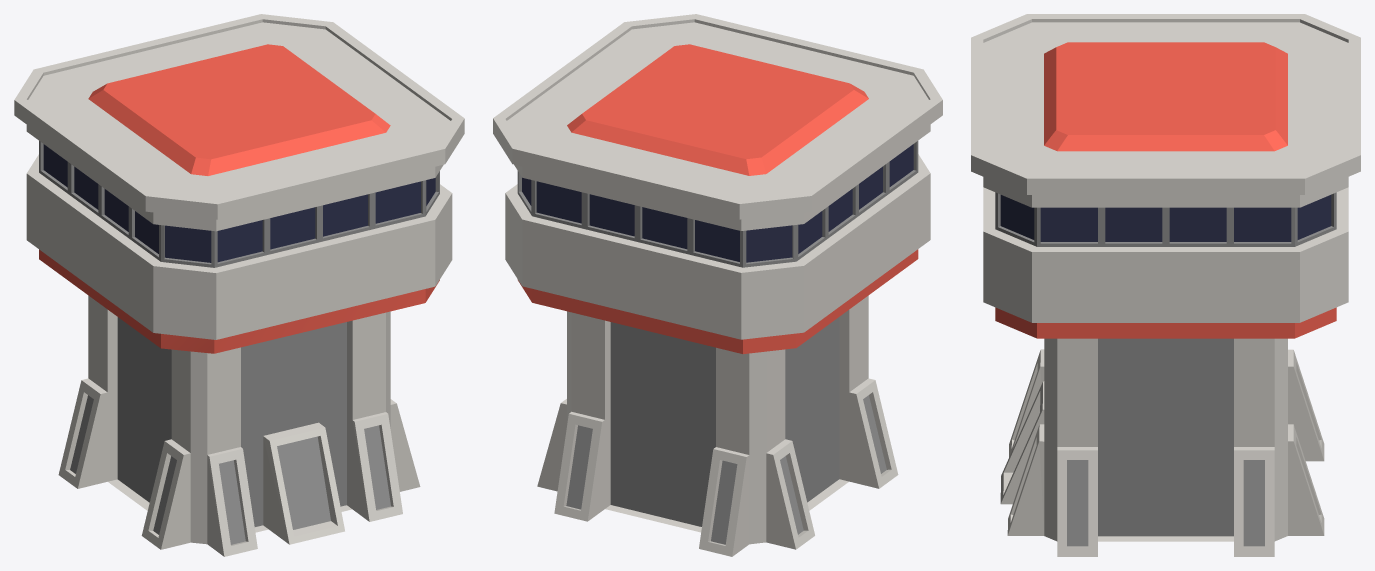
The model's file is 02 Compressor room.FBX.
The picture shows the model from 3 angles, left to right: view 1: azimuth 30°, elevation 25°; view 2: azimuth 150°, elevation 25°; view 3: azimuth 270°, elevation 25°; orthographic projection. The views are drawn at different scales.
Visible parts, largest first — view 1: Box002; view 2: Box002; view 3: Box002.
Boxes of the visible parts, x1=… form: Box002: x1=14, y1=14, x2=464, y2=556; Box002: x1=493, y1=14, x2=942, y2=556; Box002: x1=971, y1=14, x2=1360, y2=556.
Bounding box in the file's own units: 3200 × 3635 × 3200.
